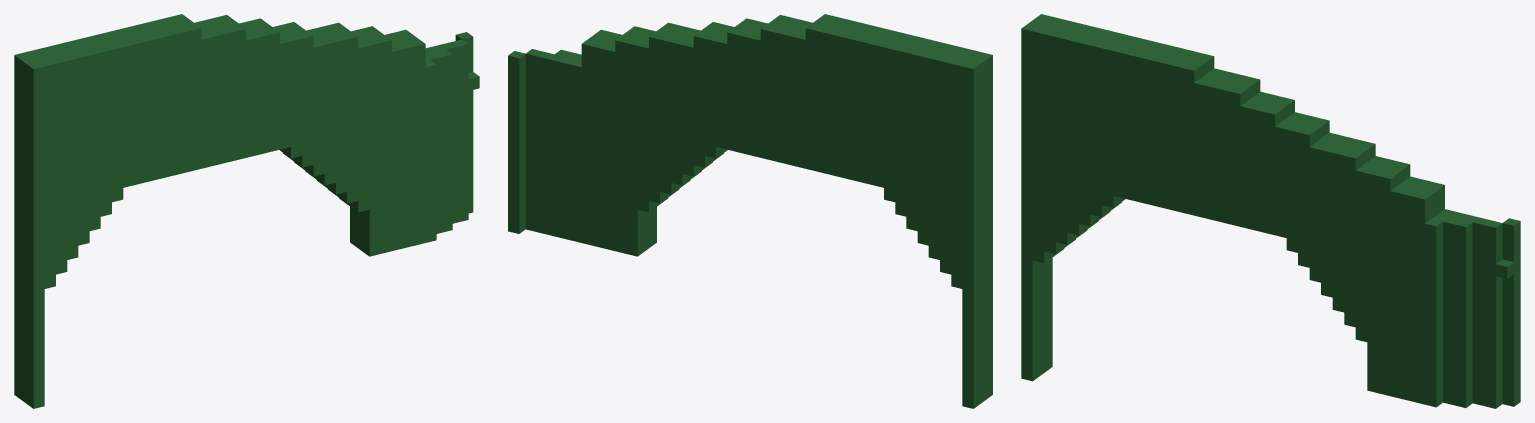
File: step_van_front_wing.glb
The picture shows the model from 3 angles, left to right: view 1: azimuth 30°, elevation 25°; view 2: azimuth 150°, elevation 25°; view 3: azimuth 330°, elevation 25°; orthographic projection. The views are drawn at different scales.
Visible parts, largest first — view 1: body:compound; view 2: body:compound; view 3: body:compound.
Part boxes in pixels (bbox=[...]): body:compound: bbox=[14, 14, 479, 408]; body:compound: bbox=[508, 14, 992, 408]; body:compound: bbox=[1021, 14, 1520, 408].
Size of the model in its own units: 1.28 by 0.9062 by 0.125.
